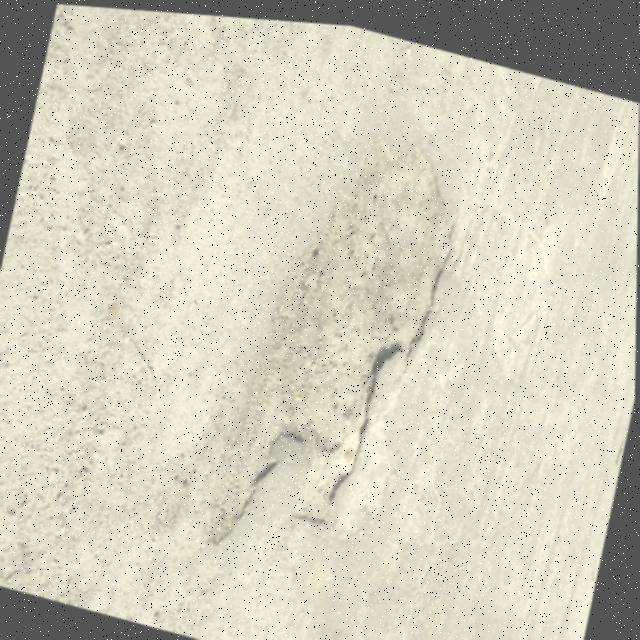pothole: (204, 105, 476, 592)
